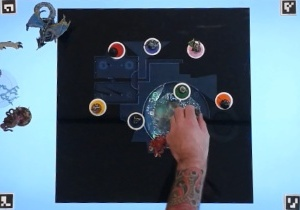blue: (141, 36, 163, 59)
green: (170, 81, 192, 101)
orange: (214, 90, 235, 110)
pink: (185, 39, 208, 59)
red: (105, 40, 127, 61)
violet: (126, 109, 147, 131)
yellow: (87, 97, 108, 116)
